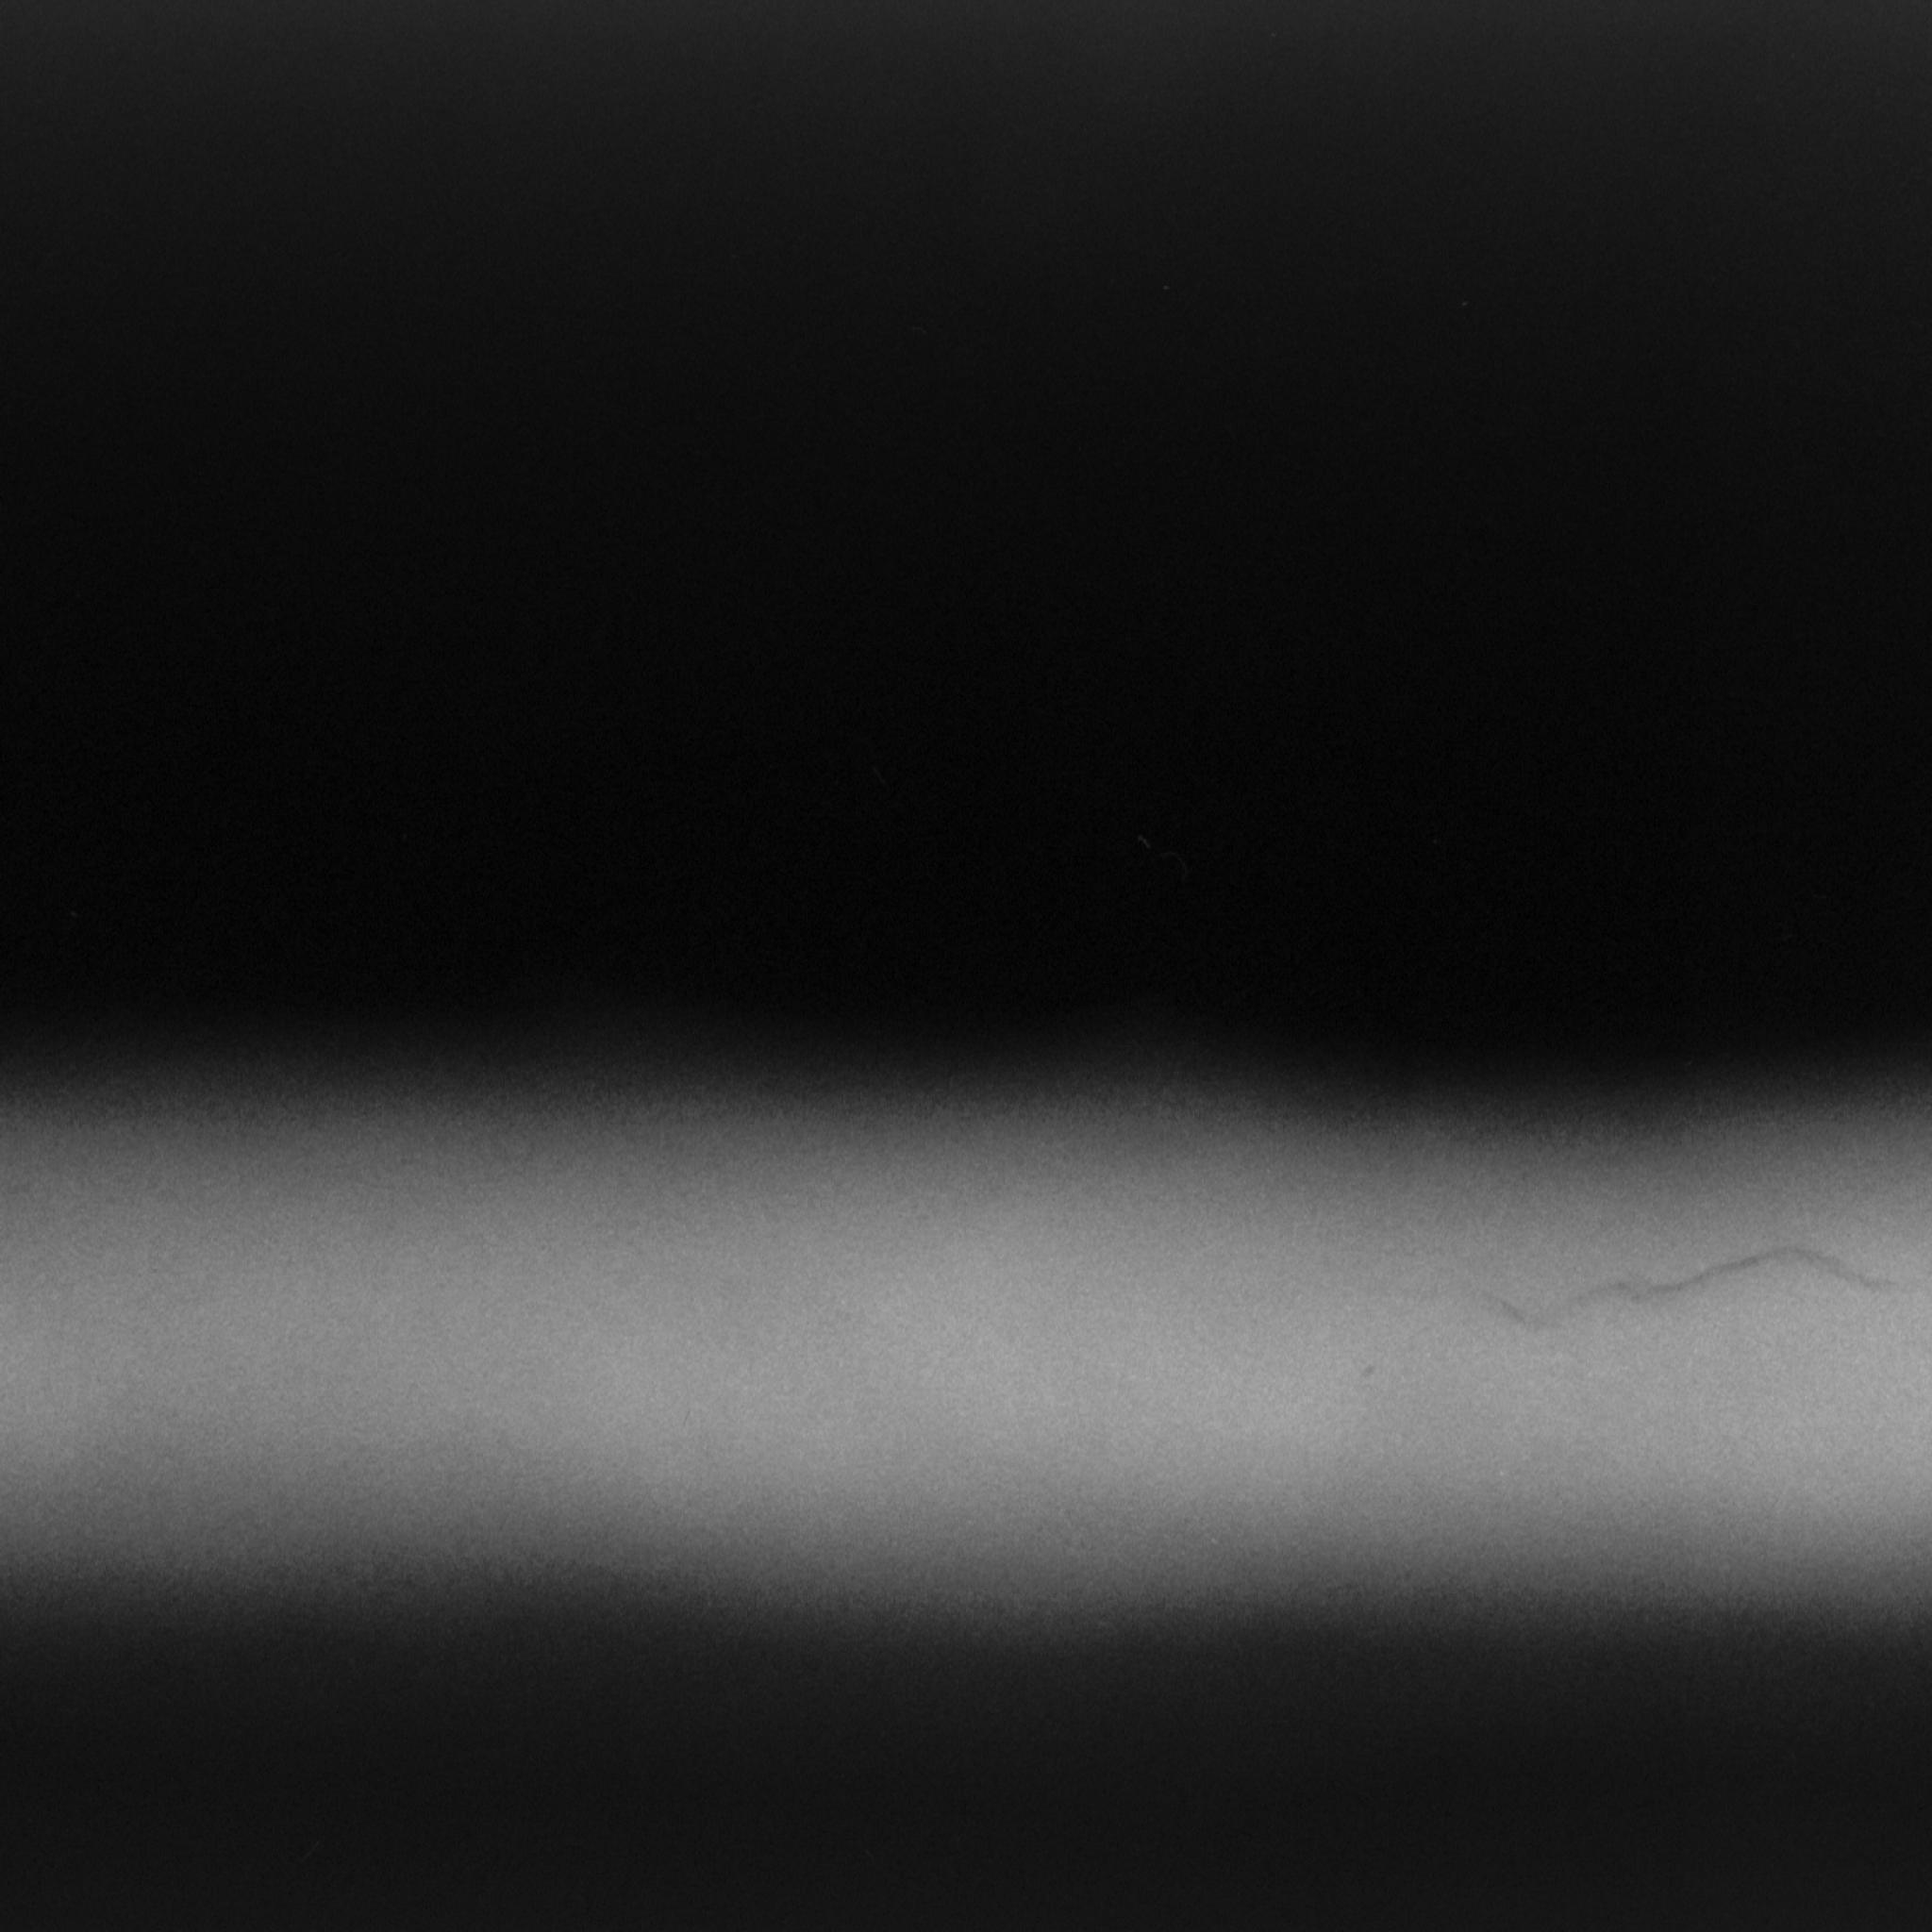TR: (1382, 1200, 1932, 1382)
